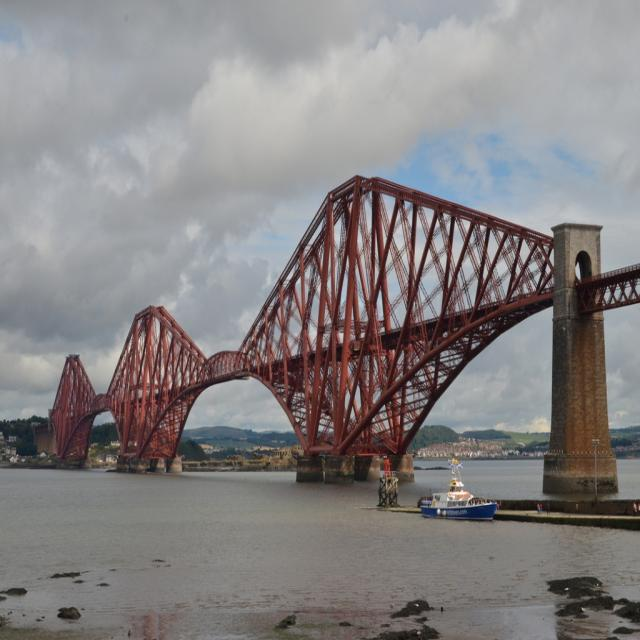Boat: (430, 474, 503, 528)
